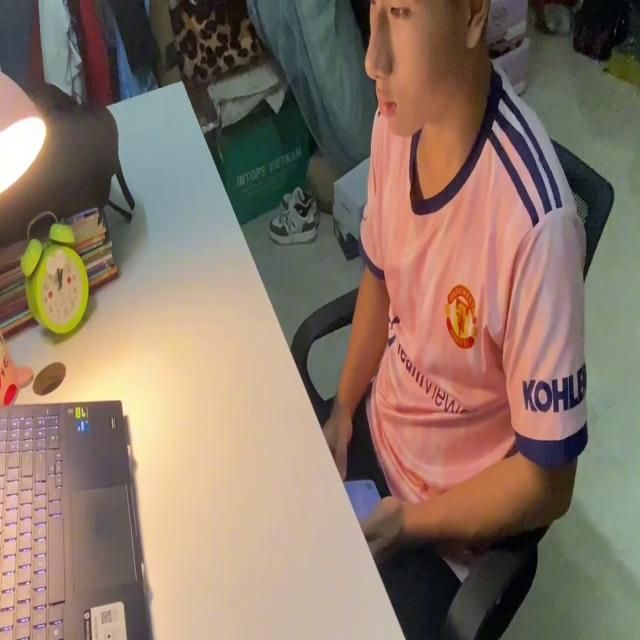laptop: (0, 395, 155, 640)
student: (319, 0, 590, 549)
